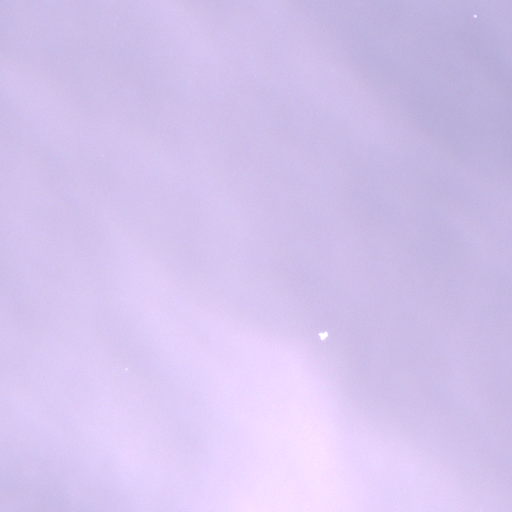Iceberg: (319, 332, 327, 339), (474, 15, 476, 17)
